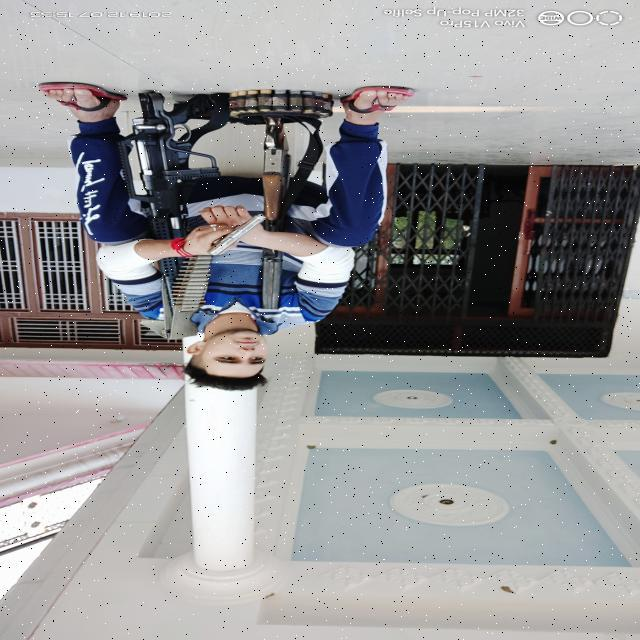gun: (189, 209, 277, 259)
